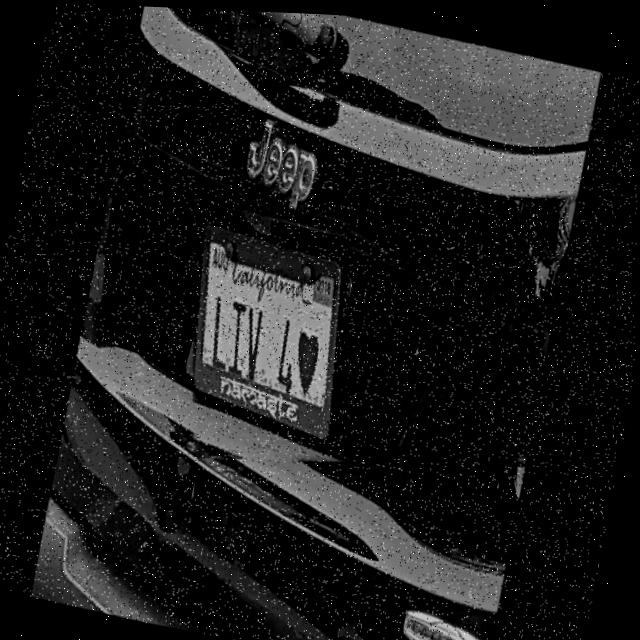LicensePlate: (159, 183, 384, 480)
